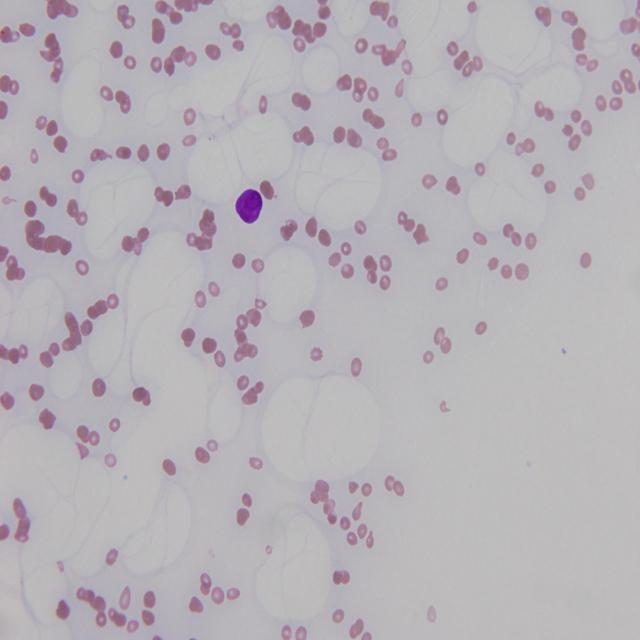cell: (235, 190, 262, 223)
